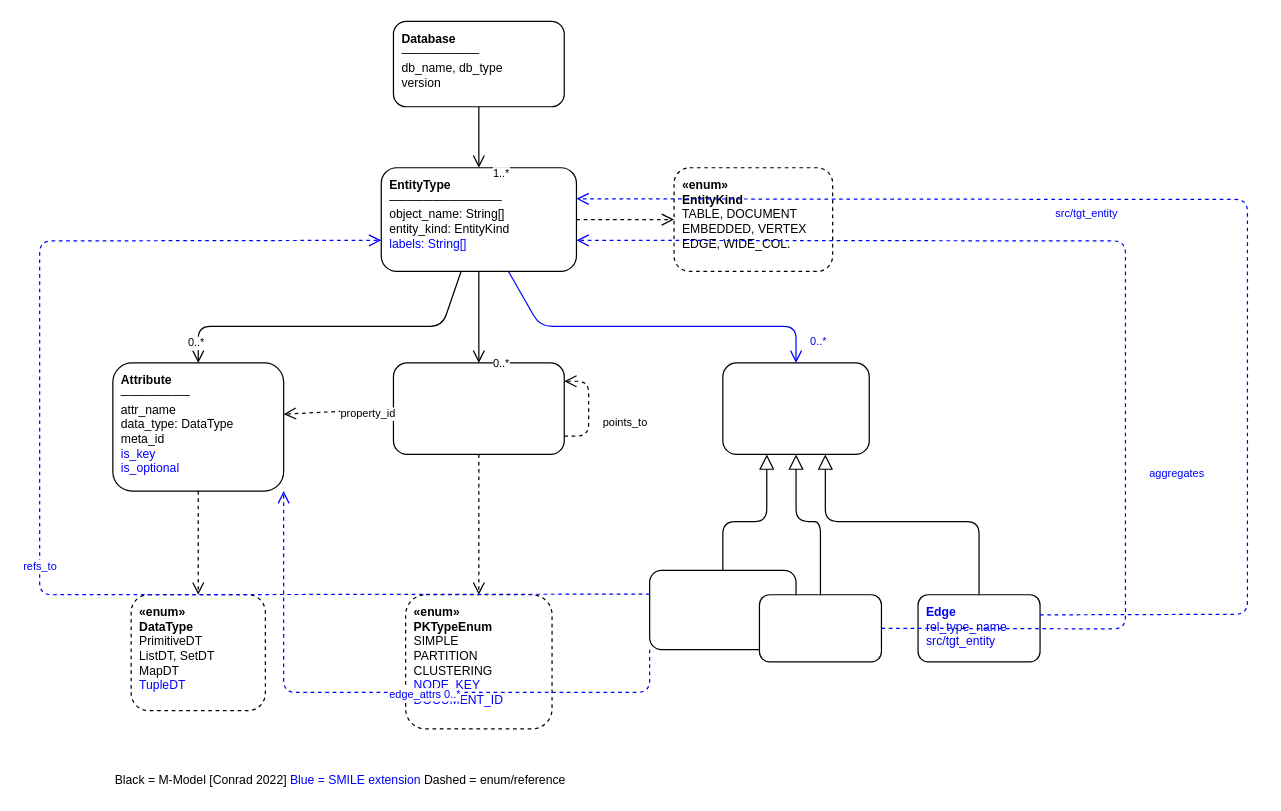
This 1281x811 diagram has some shape labels left out. Here are the shapes that lost their labels. From the top down, the centre of each, then its label:
At (478,408): "Constraint ────────── UniqueConstr. ForeignKeyConstr.".
At (795,408): "Relationship ────────── cardinality is_optional".
At (722,609): "Reference ref_name refs_to edge_attrs: Attr[]".
At (819,628): "Embedded aggr_name aggregates".
